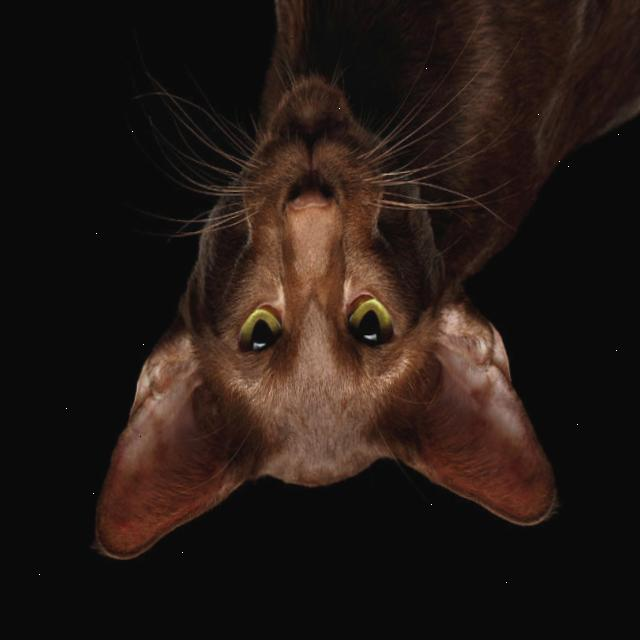Oriental: (83, 0, 640, 578)
